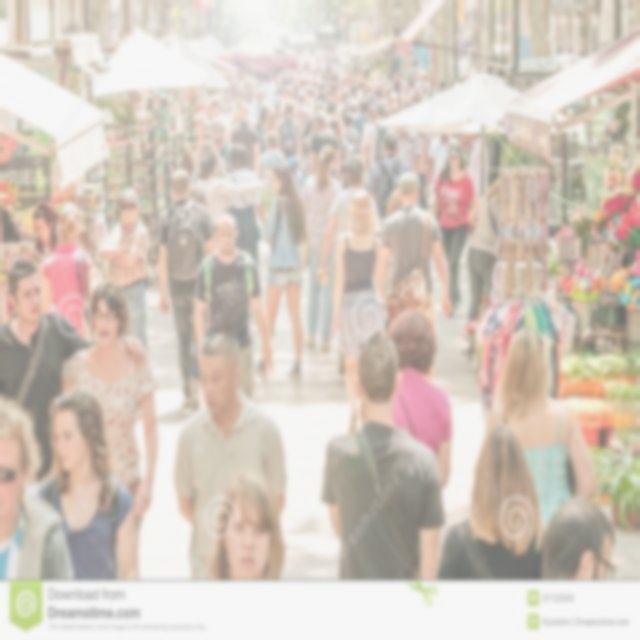pessoa: (318, 328, 449, 640), (171, 328, 291, 640), (0, 256, 150, 480), (435, 420, 561, 640), (60, 279, 160, 545), (484, 326, 599, 532), (39, 391, 140, 580), (191, 210, 275, 402), (156, 167, 217, 411), (0, 396, 75, 582), (224, 39, 460, 98), (328, 190, 384, 434), (386, 308, 452, 490), (377, 168, 452, 326), (255, 161, 309, 380), (316, 150, 380, 308), (298, 143, 344, 353), (37, 201, 100, 354), (430, 141, 480, 319), (210, 467, 286, 582), (99, 187, 151, 350), (193, 153, 271, 251), (539, 494, 619, 580), (225, 142, 267, 270), (467, 177, 502, 323), (366, 132, 412, 221), (377, 187, 404, 300), (308, 97, 375, 140), (256, 131, 287, 217), (362, 99, 397, 175), (423, 133, 458, 200), (170, 148, 208, 208), (308, 109, 340, 180), (230, 103, 261, 176), (231, 97, 293, 131), (276, 99, 304, 167), (466, 133, 489, 202), (33, 202, 61, 258), (191, 138, 223, 184), (395, 128, 423, 180), (206, 93, 232, 146), (328, 118, 350, 179), (294, 92, 312, 166), (418, 132, 434, 214), (374, 98, 429, 121), (286, 154, 310, 200), (338, 110, 362, 156), (212, 120, 232, 174), (258, 109, 280, 156), (192, 125, 214, 161), (192, 110, 210, 152), (340, 157, 350, 191)
